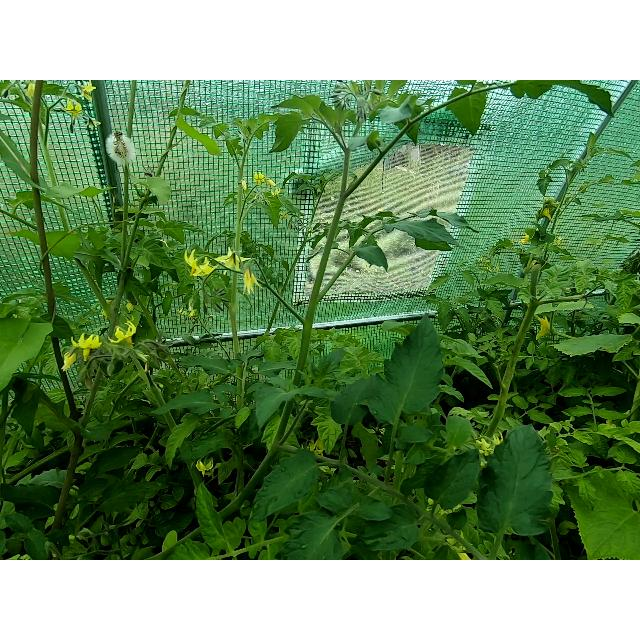Flowers: (69, 333, 103, 362), (183, 248, 214, 278), (242, 264, 262, 298), (218, 248, 250, 268), (109, 324, 138, 346), (536, 316, 556, 342), (59, 351, 79, 375), (64, 98, 82, 120), (305, 438, 325, 456), (267, 178, 283, 198), (196, 459, 214, 476), (473, 438, 492, 454), (81, 82, 97, 100), (538, 205, 554, 222), (514, 234, 532, 246), (22, 82, 38, 95), (252, 172, 266, 185), (179, 310, 197, 320), (240, 178, 248, 192), (126, 302, 134, 312)
